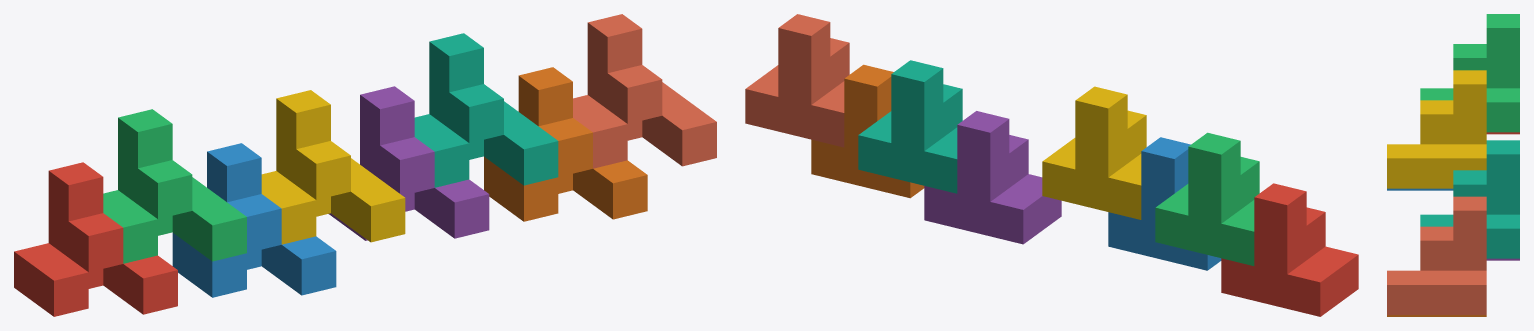
Rendered from tiling.obj.
3 views of the same model, side by side, from view 1: azimuth 30°, elevation 25°; view 2: azimuth 150°, elevation 25°; view 3: azimuth 270°, elevation 25° (orthographic). The views are drawn at different scales.
Parts seen in each view (by area): view 1: copy_1_domain_1, copy_1_domain_4, copy_1_domain_7, copy_1_domain_8, copy_1_domain_3, copy_1_domain_2, copy_1_domain_6, copy_1_domain_5; view 2: copy_1_domain_1, copy_1_domain_5, copy_1_domain_7, copy_1_domain_8, copy_1_domain_3, copy_1_domain_4, copy_1_domain_6, copy_1_domain_2; view 3: copy_1_domain_8, copy_1_domain_4, copy_1_domain_7, copy_1_domain_3, copy_1_domain_2, copy_1_domain_6.
Boxes of the visible parts, x1=… form: copy_1_domain_1: x1=14, y1=162, x2=177, y2=316; copy_1_domain_4: x1=261, y1=90, x2=405, y2=244; copy_1_domain_7: x1=414, y1=33, x2=558, y2=187; copy_1_domain_8: x1=573, y1=14, x2=716, y2=168; copy_1_domain_3: x1=103, y1=109, x2=246, y2=263; copy_1_domain_2: x1=172, y1=143, x2=336, y2=297; copy_1_domain_6: x1=484, y1=67, x2=647, y2=221; copy_1_domain_5: x1=328, y1=86, x2=489, y2=240; copy_1_domain_1: x1=1221, y1=183, x2=1358, y2=316; copy_1_domain_5: x1=924, y1=111, x2=1061, y2=244; copy_1_domain_7: x1=858, y1=60, x2=962, y2=193; copy_1_domain_8: x1=745, y1=14, x2=849, y2=147; copy_1_domain_3: x1=1155, y1=132, x2=1259, y2=265; copy_1_domain_4: x1=1042, y1=86, x2=1146, y2=219; copy_1_domain_6: x1=811, y1=64, x2=924, y2=198; copy_1_domain_2: x1=1108, y1=137, x2=1221, y2=270; copy_1_domain_8: x1=1387, y1=196, x2=1486, y2=314; copy_1_domain_4: x1=1387, y1=70, x2=1486, y2=188; copy_1_domain_7: x1=1420, y1=140, x2=1519, y2=258; copy_1_domain_3: x1=1420, y1=14, x2=1519, y2=132; copy_1_domain_2: x1=1387, y1=188, x2=1453, y2=190; copy_1_domain_6: x1=1387, y1=315, x2=1486, y2=316.
Size of the model in its own units: 18 by 4 by 4.
